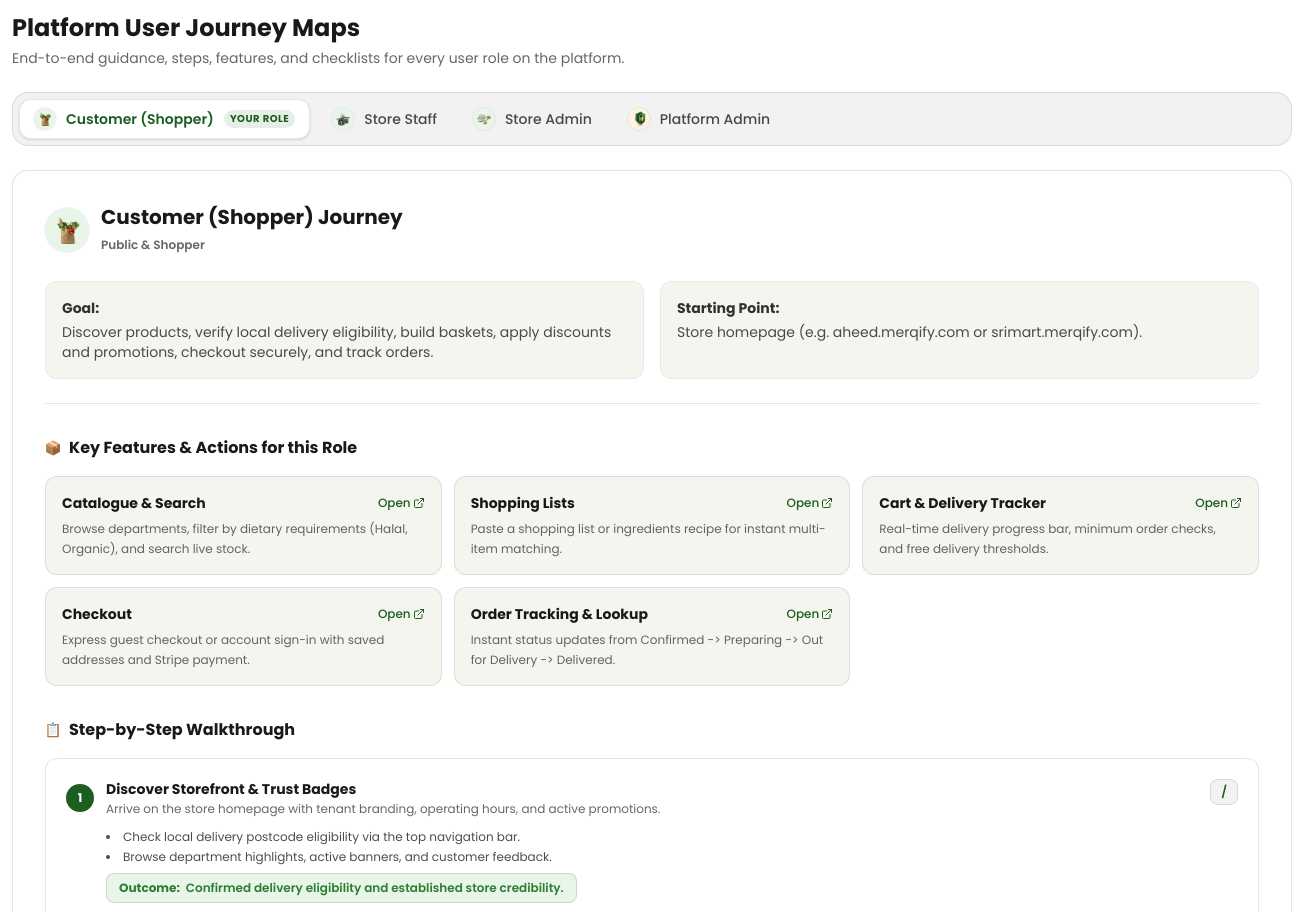
Test: RoleJourneyMaps › switches journey when user clicks on a different role tab
Expected: the heading "Customer (Shopper) Journey" is shown, [101,203,403,231]
Click the tab "Store Staff". click: (385, 119)
box: [318,99,451,139]
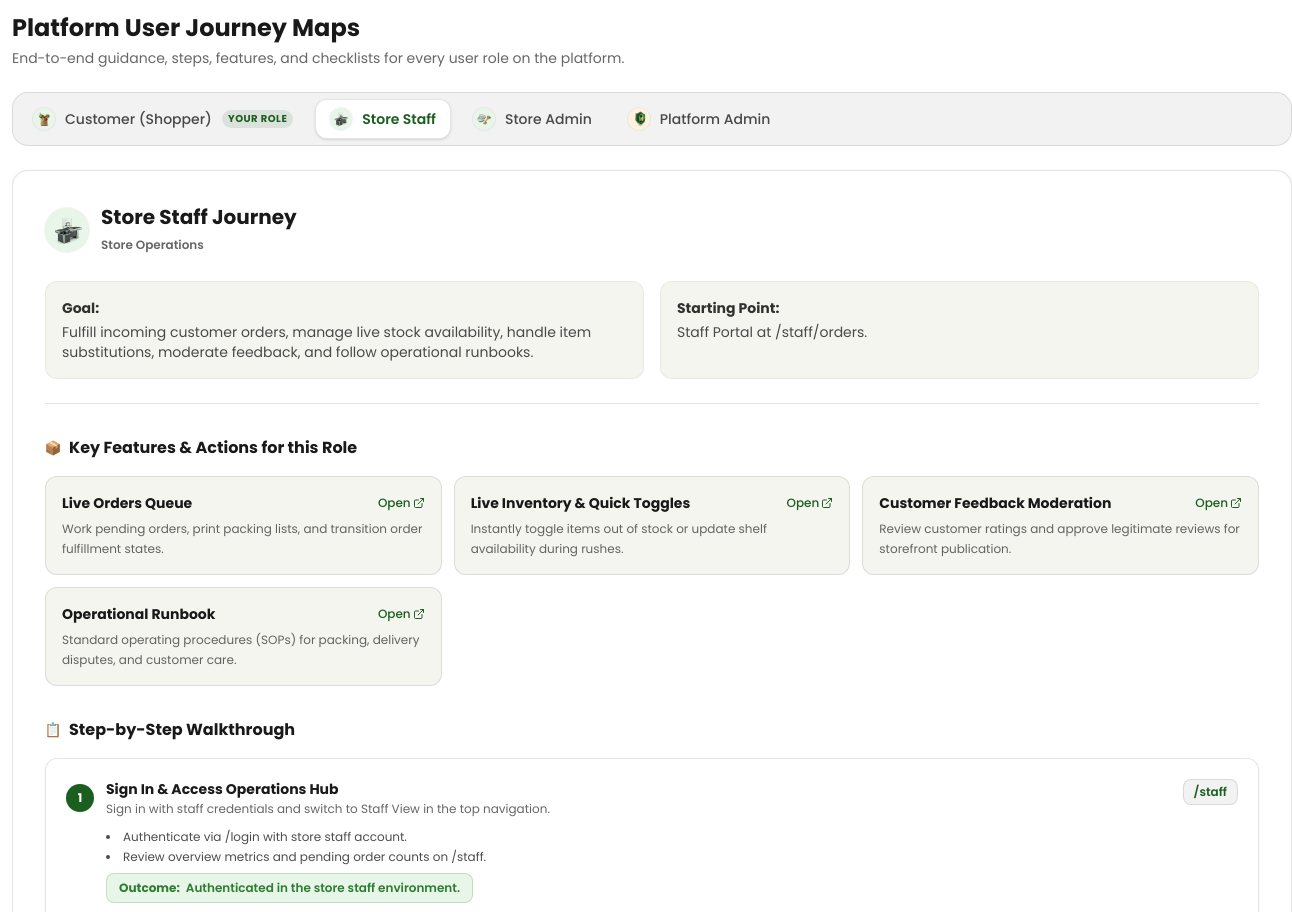
Expected: the heading "Store Staff Journey" is shown, [101,203,297,231]
Expected: the text "Live Orders Queue" is shown, [62,493,192,513]
Click the tab "Store Admin". click: (532, 119)
box: [459,99,606,139]
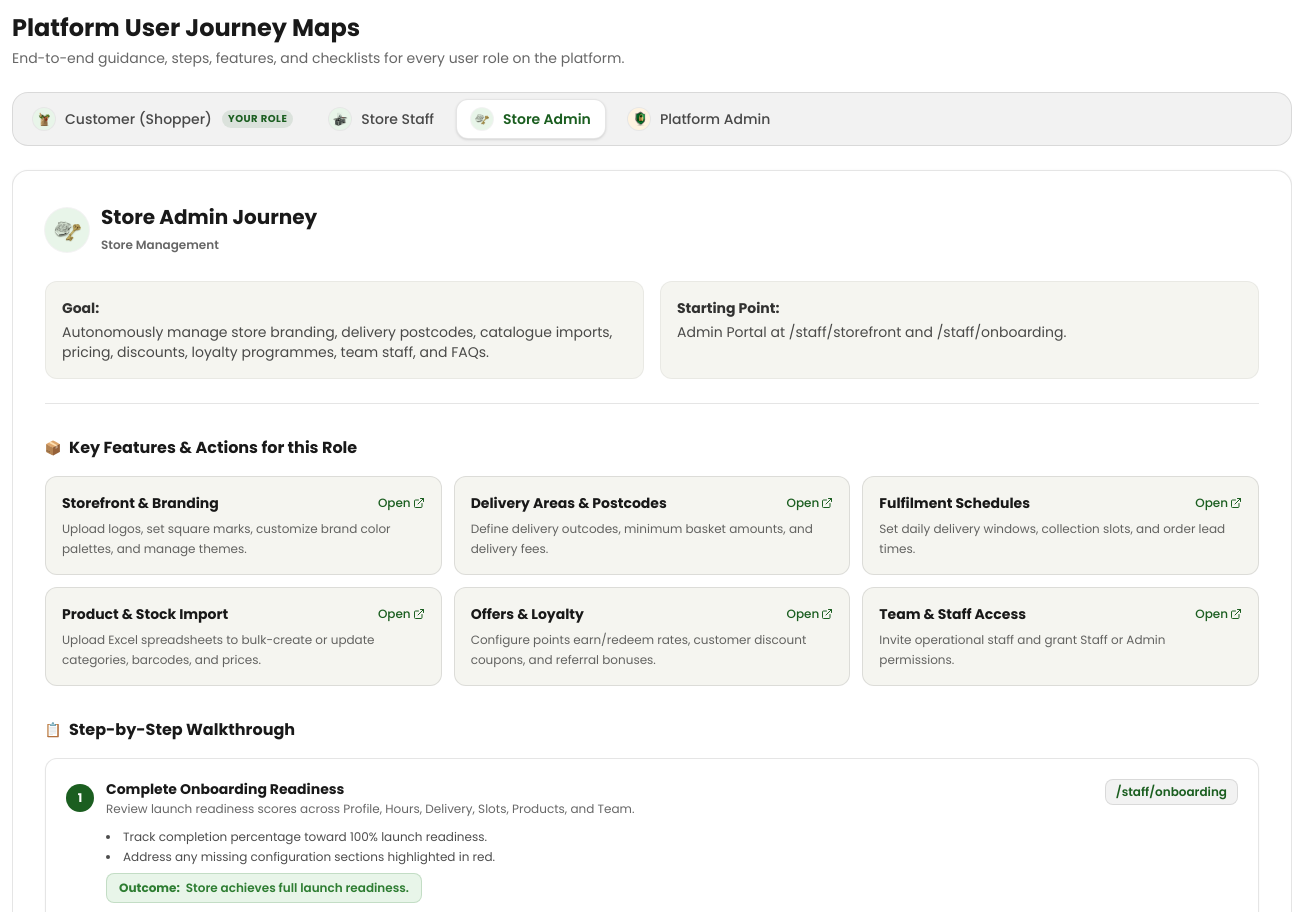
Expected: the heading "Store Admin Journey" is shown, [101,203,317,231]
Expected: the text "Storefront & Branding" is shown, [62,493,219,513]
